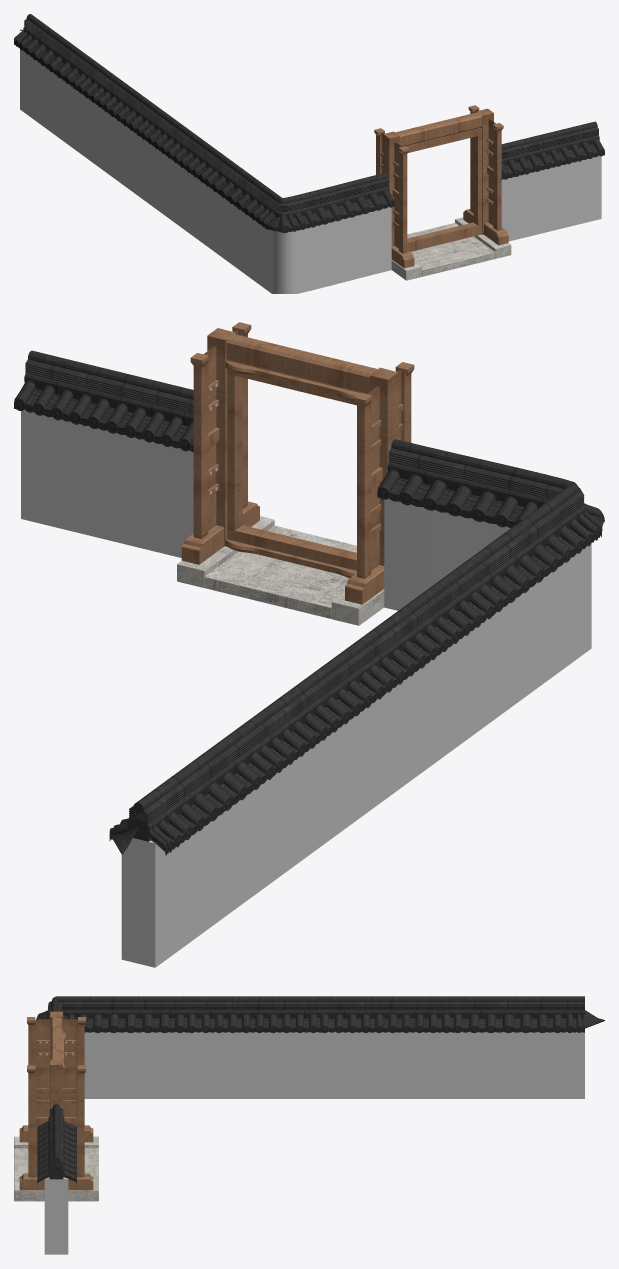
Rendered from SM_JSH_HG_StoneWallH_Splines_18.fbx.
The picture shows the model from 3 angles, top to bottom: view 1: azimuth 30°, elevation 25°; view 2: azimuth 150°, elevation 25°; view 3: azimuth 270°, elevation 25°; orthographic projection. The views are drawn at different scales.
Visible parts, largest first — view 1: SM_JSH_HG_StoneWallH_Splines_18; view 2: SM_JSH_HG_StoneWallH_Splines_18; view 3: SM_JSH_HG_StoneWallH_Splines_18.
Boxes of the visible parts, x1,y1,x2,y2 form: SM_JSH_HG_StoneWallH_Splines_18: (14, 14, 604, 293); SM_JSH_HG_StoneWallH_Splines_18: (14, 322, 604, 967); SM_JSH_HG_StoneWallH_Splines_18: (14, 996, 604, 1254).
Size of the model in its own units: 662 by 978 by 248.
